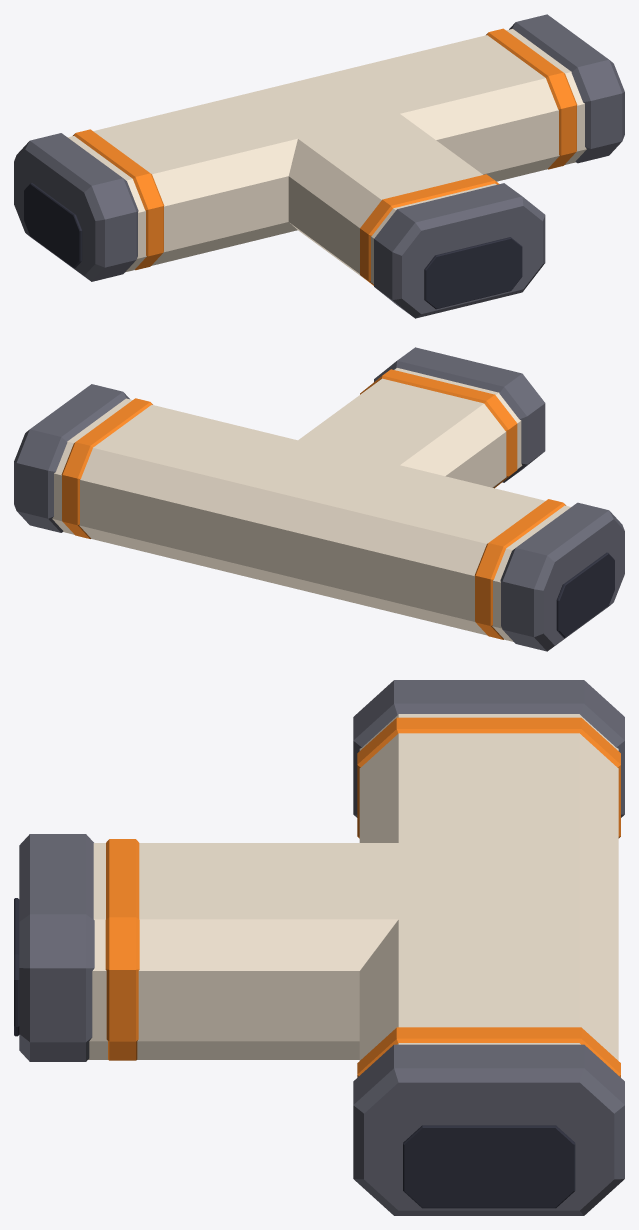
Rendered from cable-run-t.glb.
3 views of the same model, one above another, from view 1: azimuth 30°, elevation 25°; view 2: azimuth 150°, elevation 25°; view 3: azimuth 270°, elevation 25° (orthographic). The views are drawn at different scales.
Visible parts, largest first — view 1: cable-run-t_smooth-structure, Thick slate end collar (×3), Terminal inset (×2), Orange fastening band (×3); view 2: cable-run-t_smooth-structure, Thick slate end collar (×3), Orange fastening band (×3), Terminal inset; view 3: cable-run-t_smooth-structure, Thick slate end collar (×3), Orange fastening band (×3), Terminal inset (×2).
Boxes of the visible parts, left/top/right/bottom form: cable-run-t_smooth-structure: left=68, top=29, right=586, bottom=284; Thick slate end collar (×3): left=14, top=14, right=624, bottom=318; Terminal inset (×2): left=24, top=183, right=522, bottom=309; Orange fastening band (×3): left=73, top=28, right=577, bottom=285; cable-run-t_smooth-structure: left=52, top=368, right=570, bottom=641; Thick slate end collar (×3): left=14, top=347, right=624, bottom=651; Orange fastening band (×3): left=61, top=369, right=566, bottom=639; Terminal inset: left=556, top=552, right=614, bottom=637; cable-run-t_smooth-structure: left=88, top=714, right=618, bottom=1060; Thick slate end collar (×3): left=19, top=680, right=624, bottom=1215; Orange fastening band (×3): left=105, top=717, right=620, bottom=1077; Terminal inset (×2): left=14, top=898, right=575, bottom=1208.
Size of the model in its own units: 2.2 by 0.378 by 1.42.
